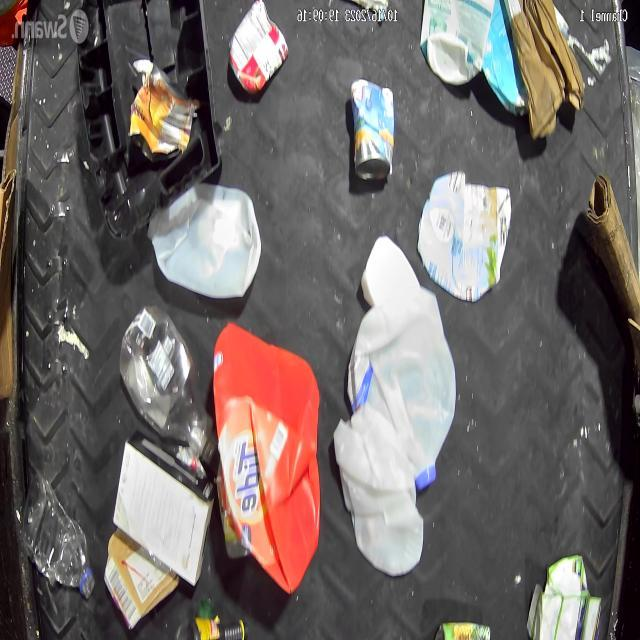can: (127, 60, 200, 164), (228, 0, 290, 100), (348, 80, 396, 182)
milk_jug: (344, 288, 458, 492), (332, 406, 426, 580), (145, 178, 262, 300), (419, 0, 495, 86)
non_white_jug: (212, 318, 324, 598), (480, 0, 524, 114)
plastic_bottle: (116, 300, 218, 471), (18, 473, 96, 599)
